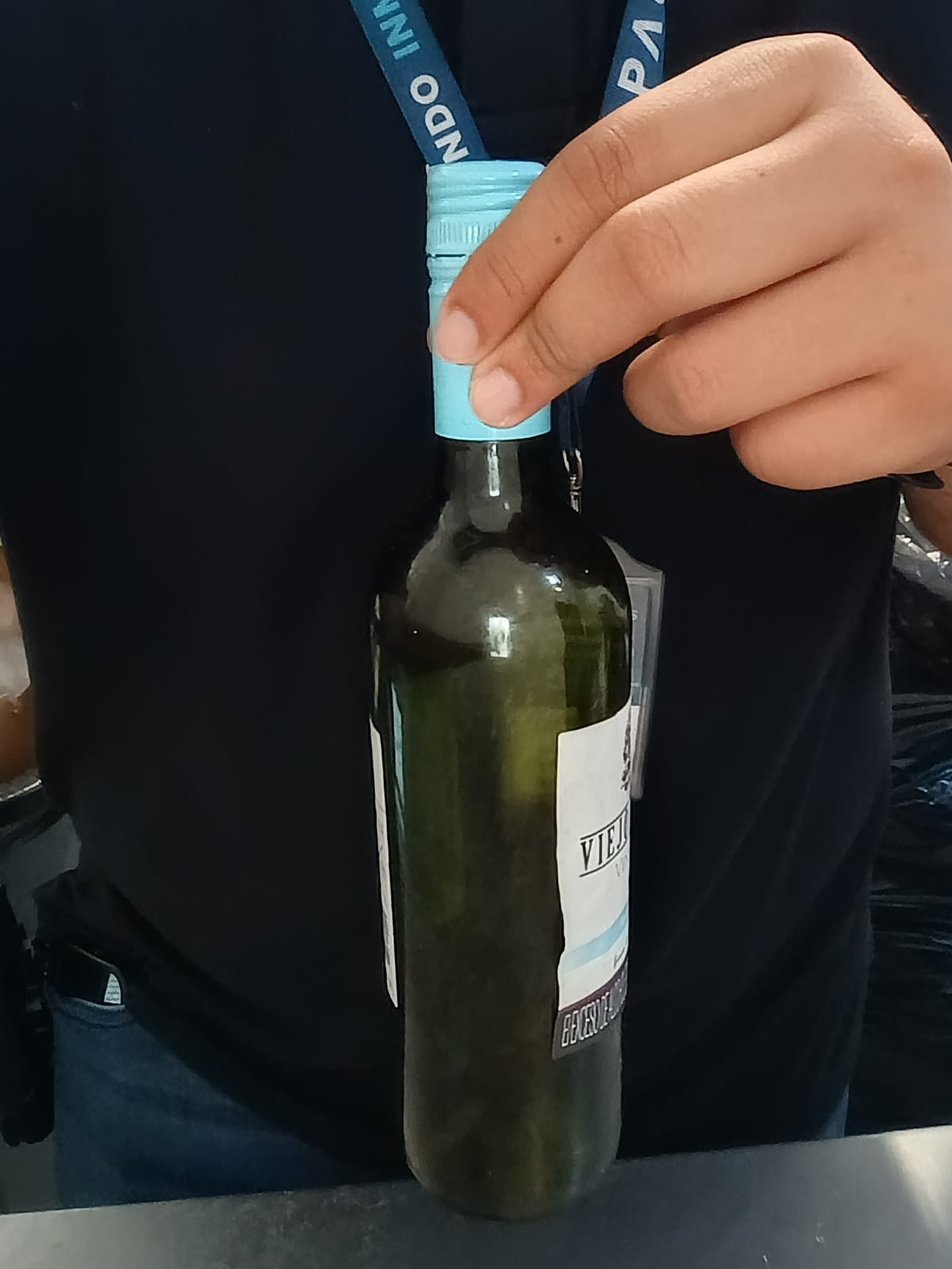Vidrio: (368, 159, 636, 1225)
